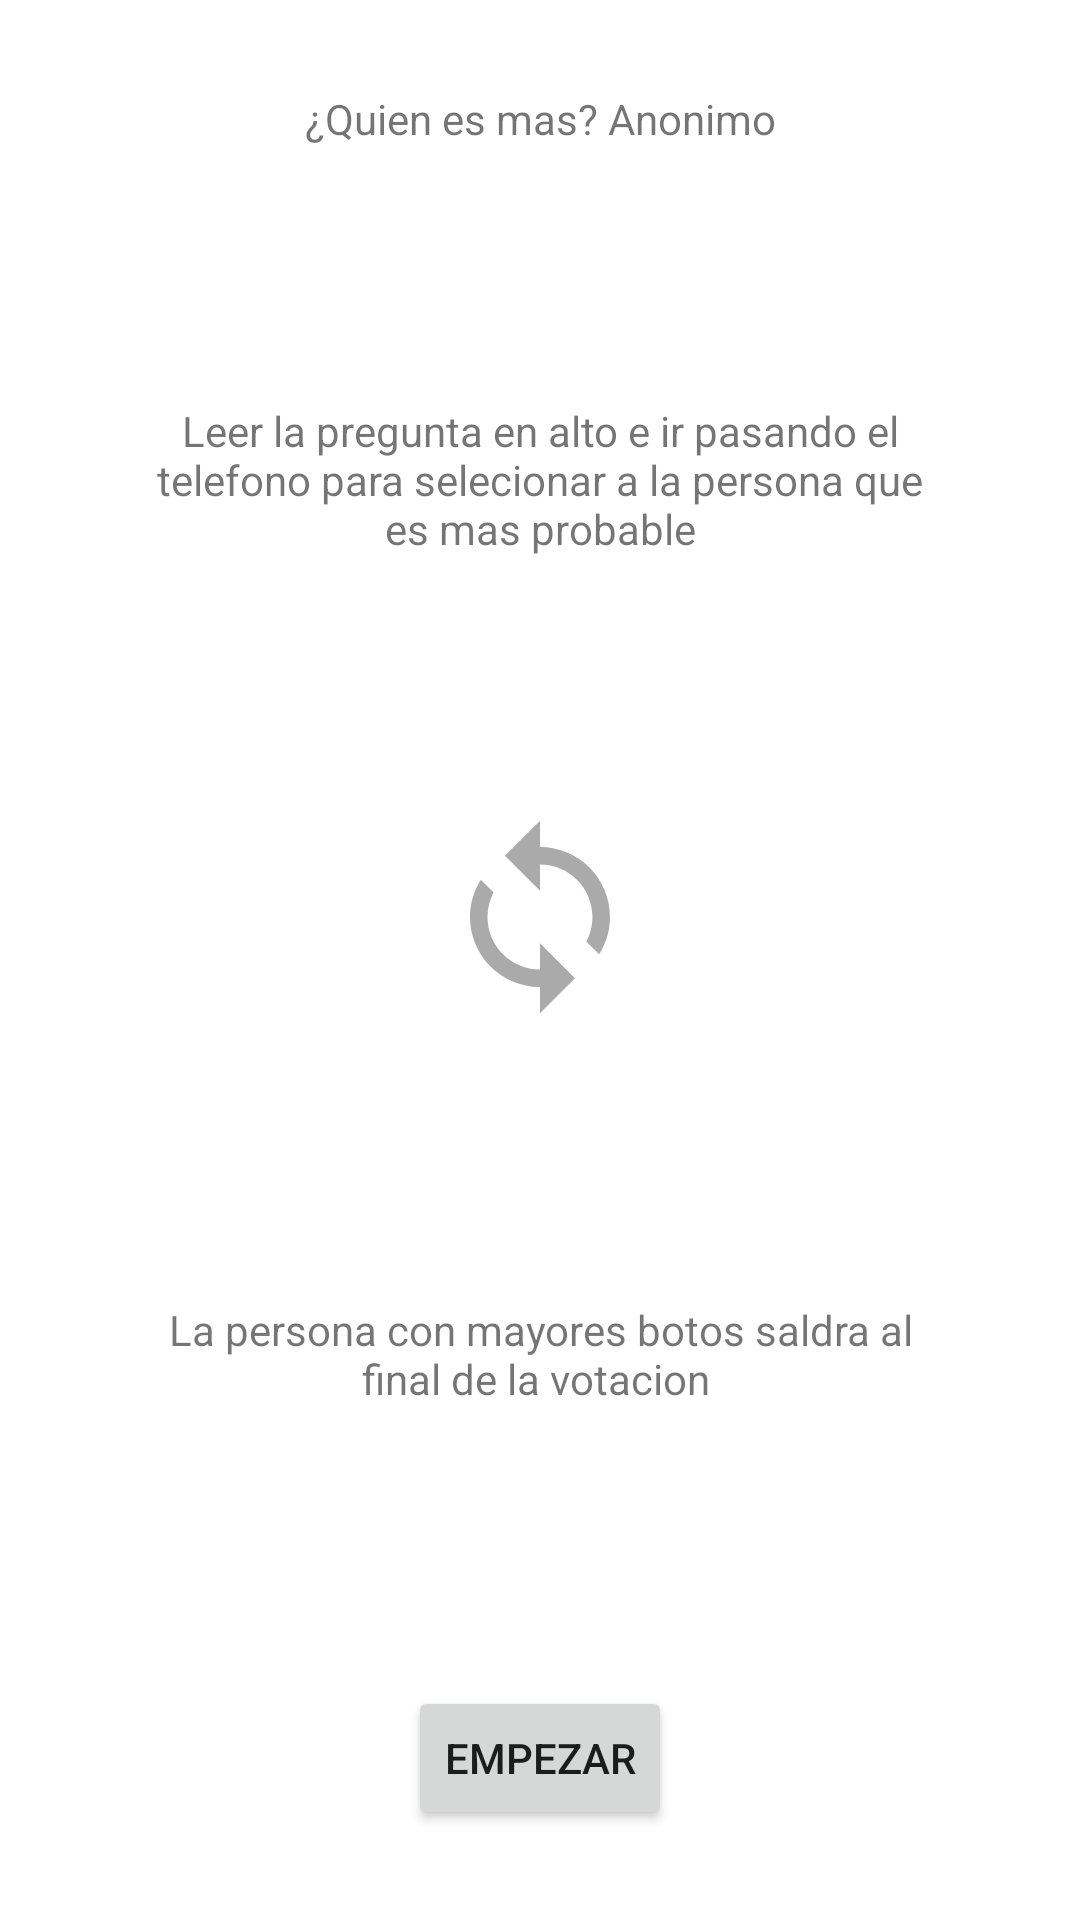

Screen size 1080x1920. Icon name, then its box in pixels as box=[x1, y1, x2, y2]:
sync: box=[470, 821, 610, 1013]
